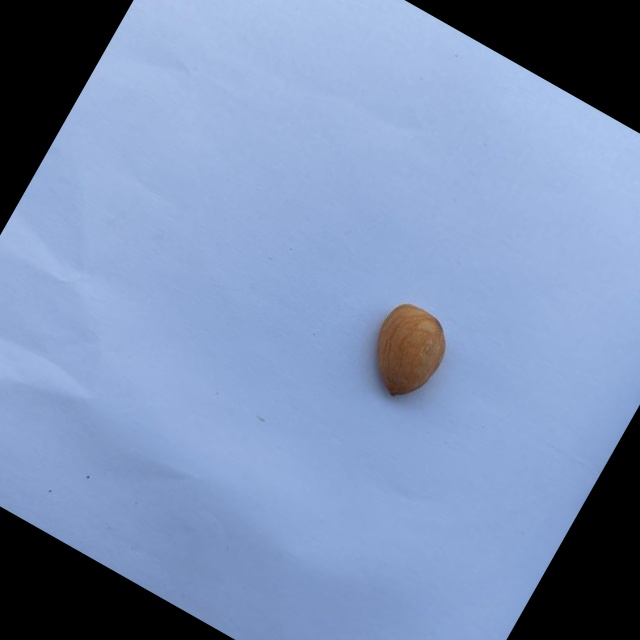grade2: (347, 290, 464, 413)
